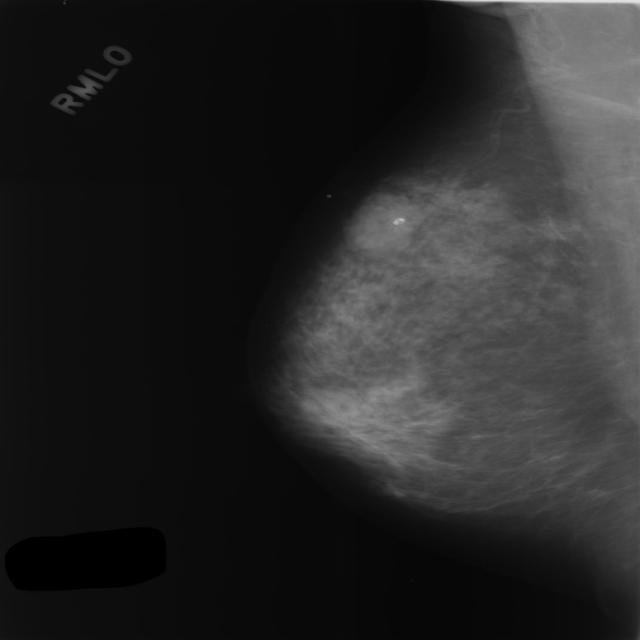tumour: (343, 192, 421, 252)
